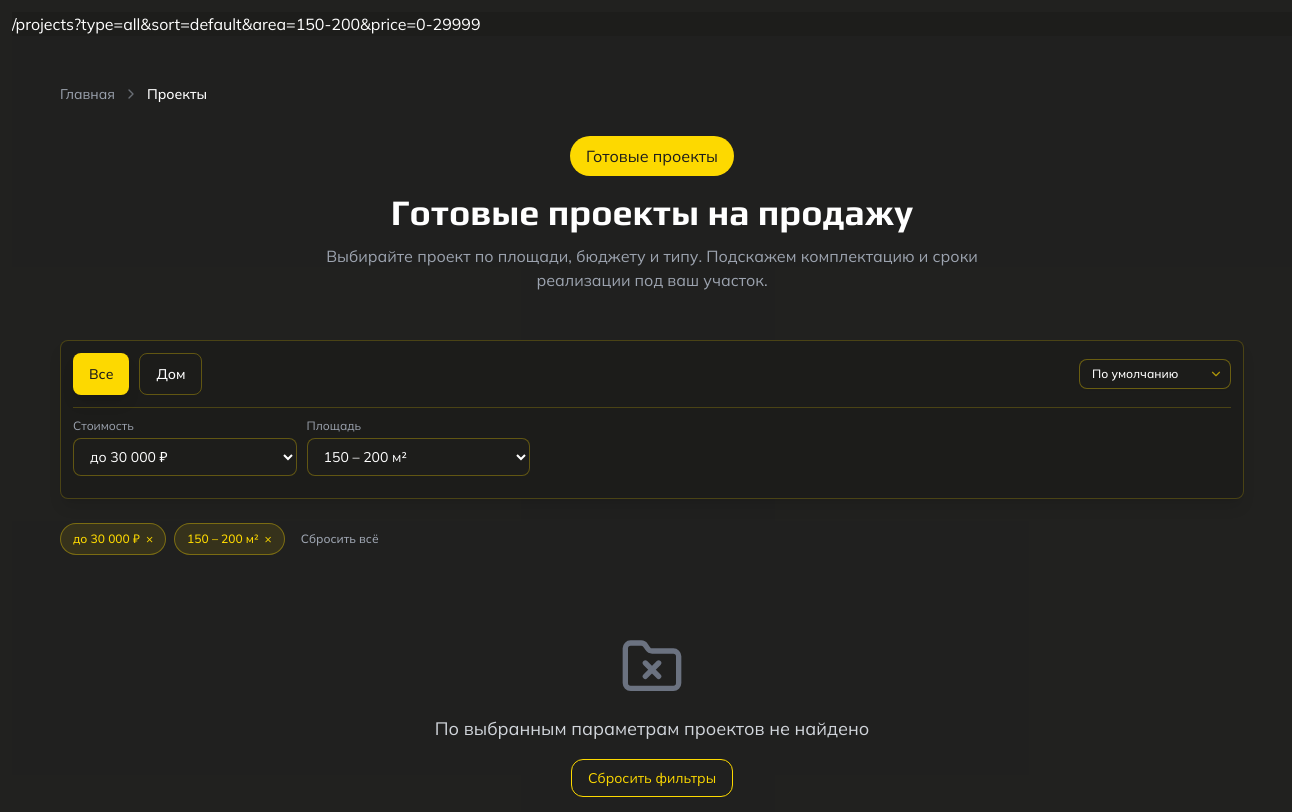
Scenario: catalog filters UI › полностью сбрасывает цену из пустой выдачи
The image size is (1292, 812).
What coordinates should you click on to do the following:
click the button "Сбросить фильтры"
I would click on:
 (652, 778)
Its box is x1=571 y1=759 x2=733 y2=797.
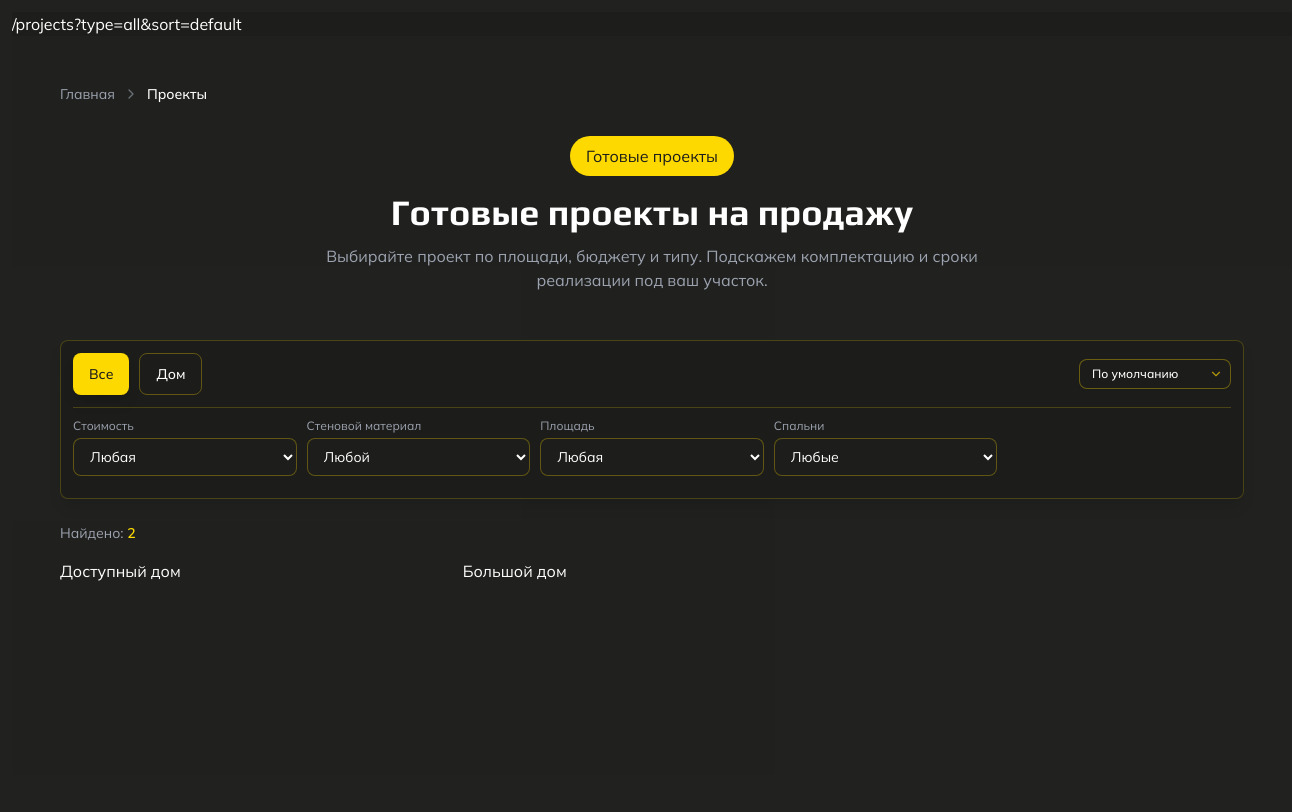
Expected: the text with test id "location" does not show "price=", x1=12 y1=14 x2=242 y2=34
Expected: the link "Доступный дом" is shown, x1=60 y1=561 x2=181 y2=581
